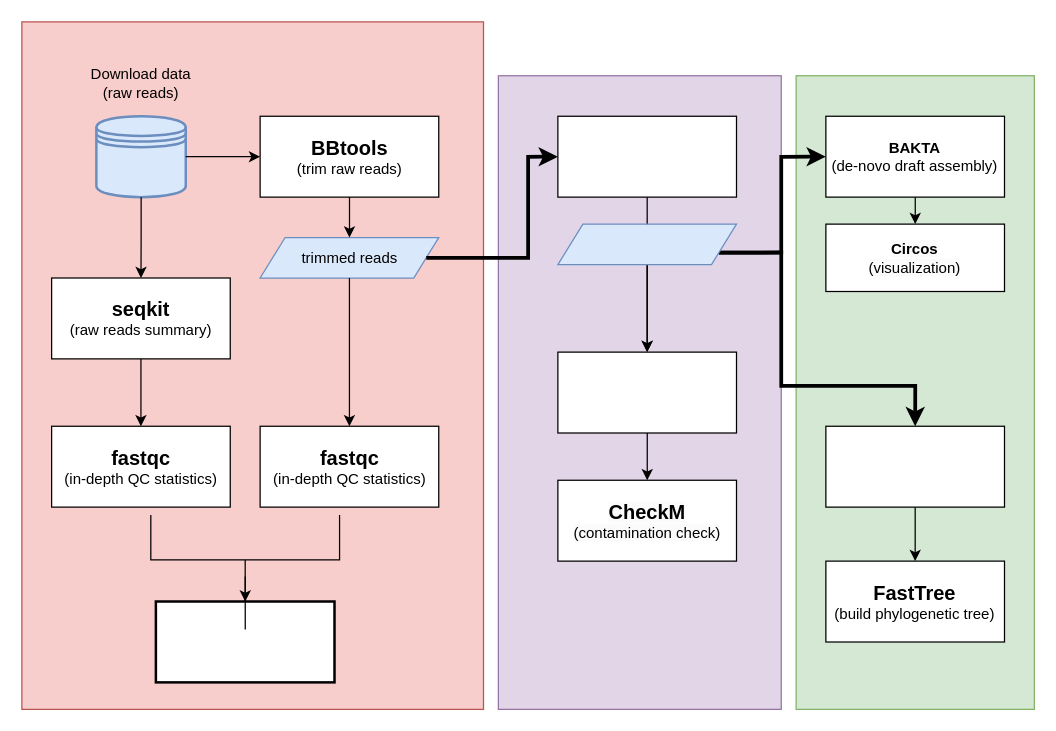
Image size: 1056x731. Some labels were removed from this diagram. Here are the shapes that lost their labels. From the top down, the box of each, then its label:
(557, 115, 736, 197): Shovill (de-novo draft assembly)
(557, 223, 736, 265): draft genomes
(557, 351, 736, 433): QUAST (assembly statistics)
(825, 425, 1004, 507): Snippy (call SNVs in assembly)
(154, 600, 335, 683): multiqc (create summary of QC)
